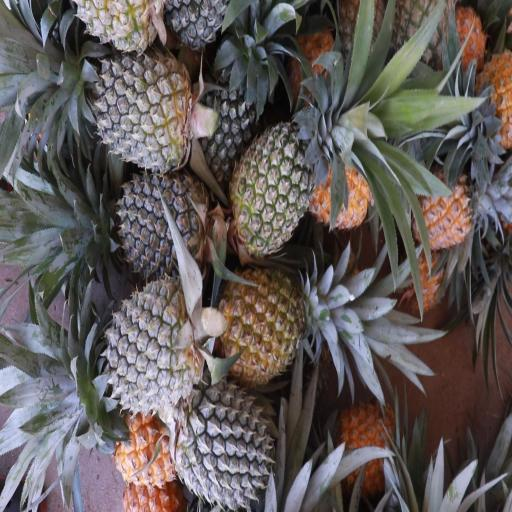------------------------------: (234, 128, 332, 251), (216, 267, 308, 380), (392, 0, 452, 79)
Pineapple - v8 v1: (103, 397, 176, 489), (309, 131, 376, 227), (335, 398, 390, 498), (419, 166, 480, 252)
